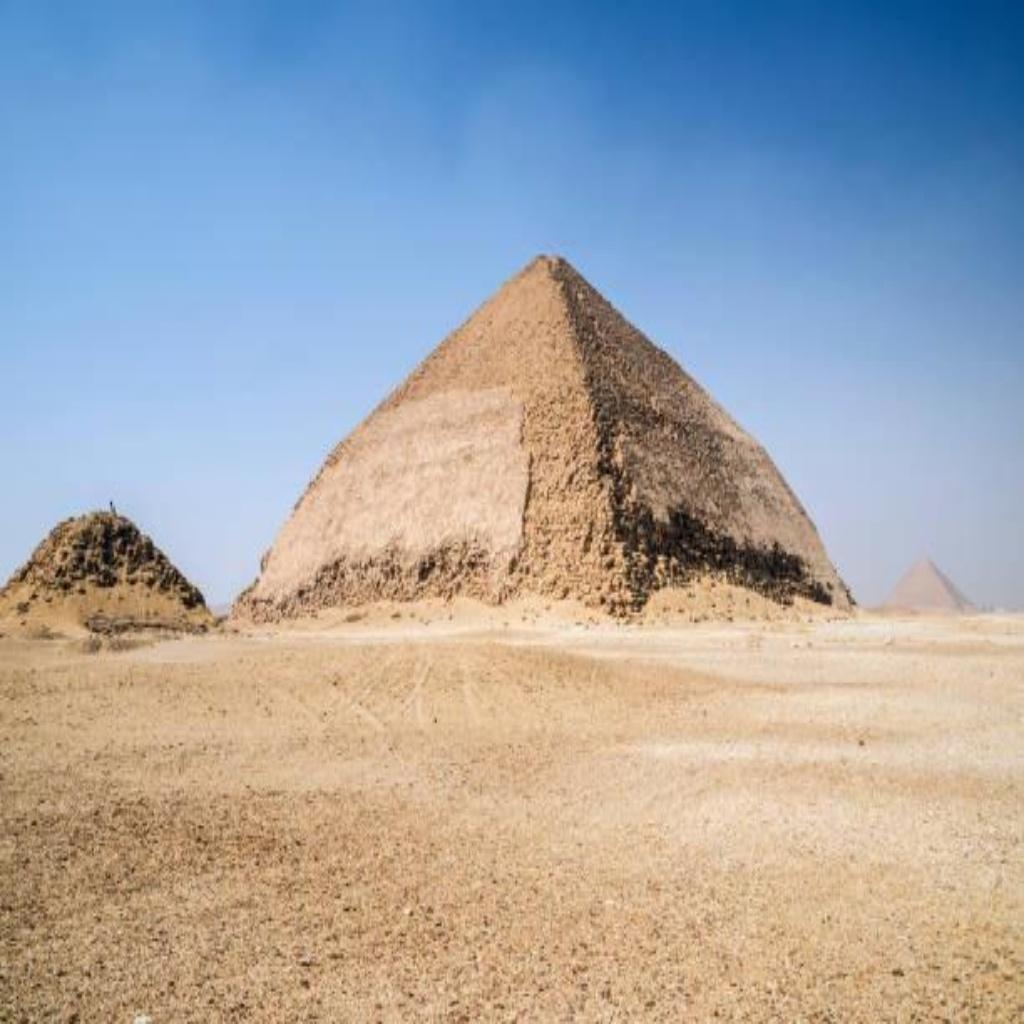Bent Pyramid of King Sneferu: (228, 246, 858, 627)
